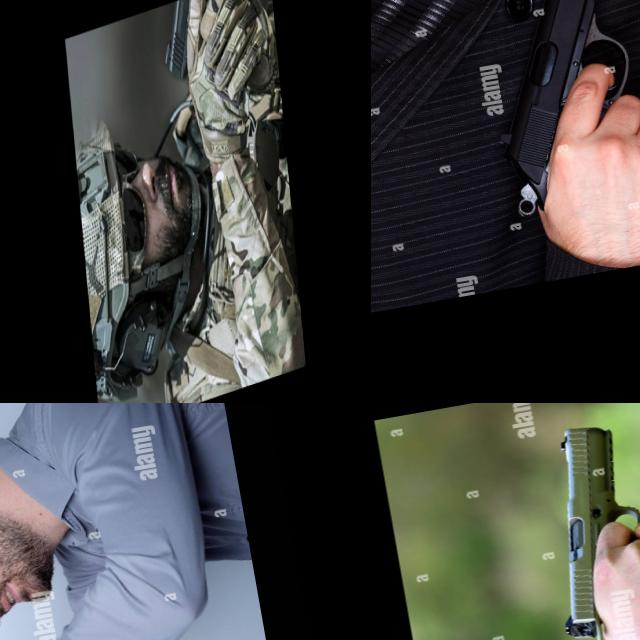handgun: (458, 0, 640, 285), (525, 403, 640, 640), (160, 0, 241, 107)
